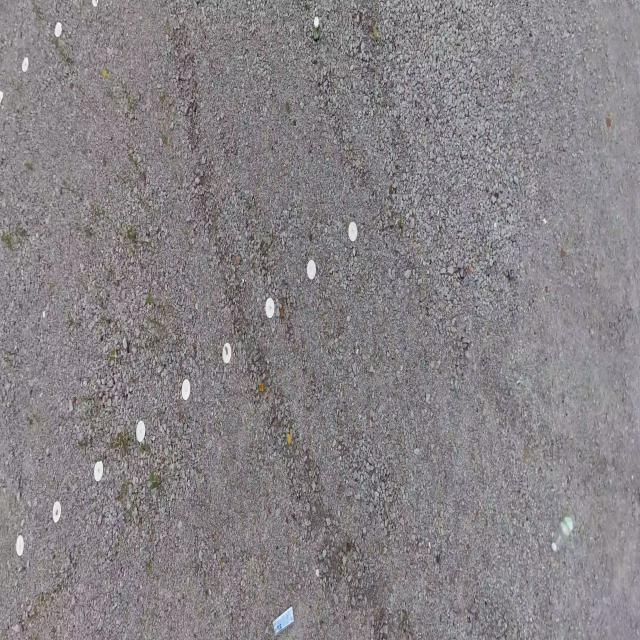rubbish: (552, 511, 577, 554), (271, 606, 294, 636), (312, 17, 320, 40)
